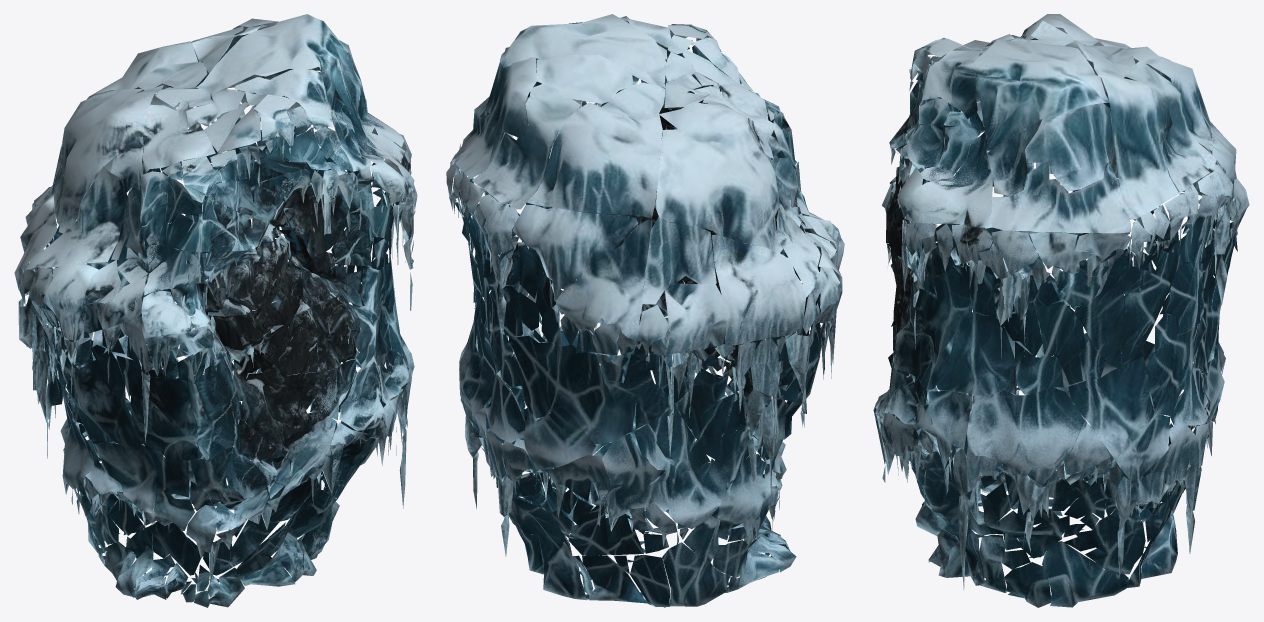
Rendered from ice_rock.glb.
3 renders of one model, left to right at view 1: azimuth 30°, elevation 25°; view 2: azimuth 150°, elevation 25°; view 3: azimuth 270°, elevation 25°, orthographic. The views are drawn at different scales.
Parts seen in each view (by area): view 1: LairIceRock; view 2: LairIceRock; view 3: LairIceRock.
Part boxes in pixels (x1,y1,x2,y2): LairIceRock: (14, 14, 417, 607); LairIceRock: (446, 14, 844, 607); LairIceRock: (873, 14, 1249, 607).
Size of the model in its own units: 0.7466 by 1 by 0.6334.
Materials: 1 (1 with a texture image).
